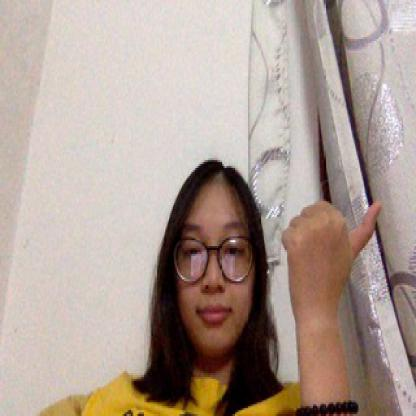left: (282, 197, 384, 305)
